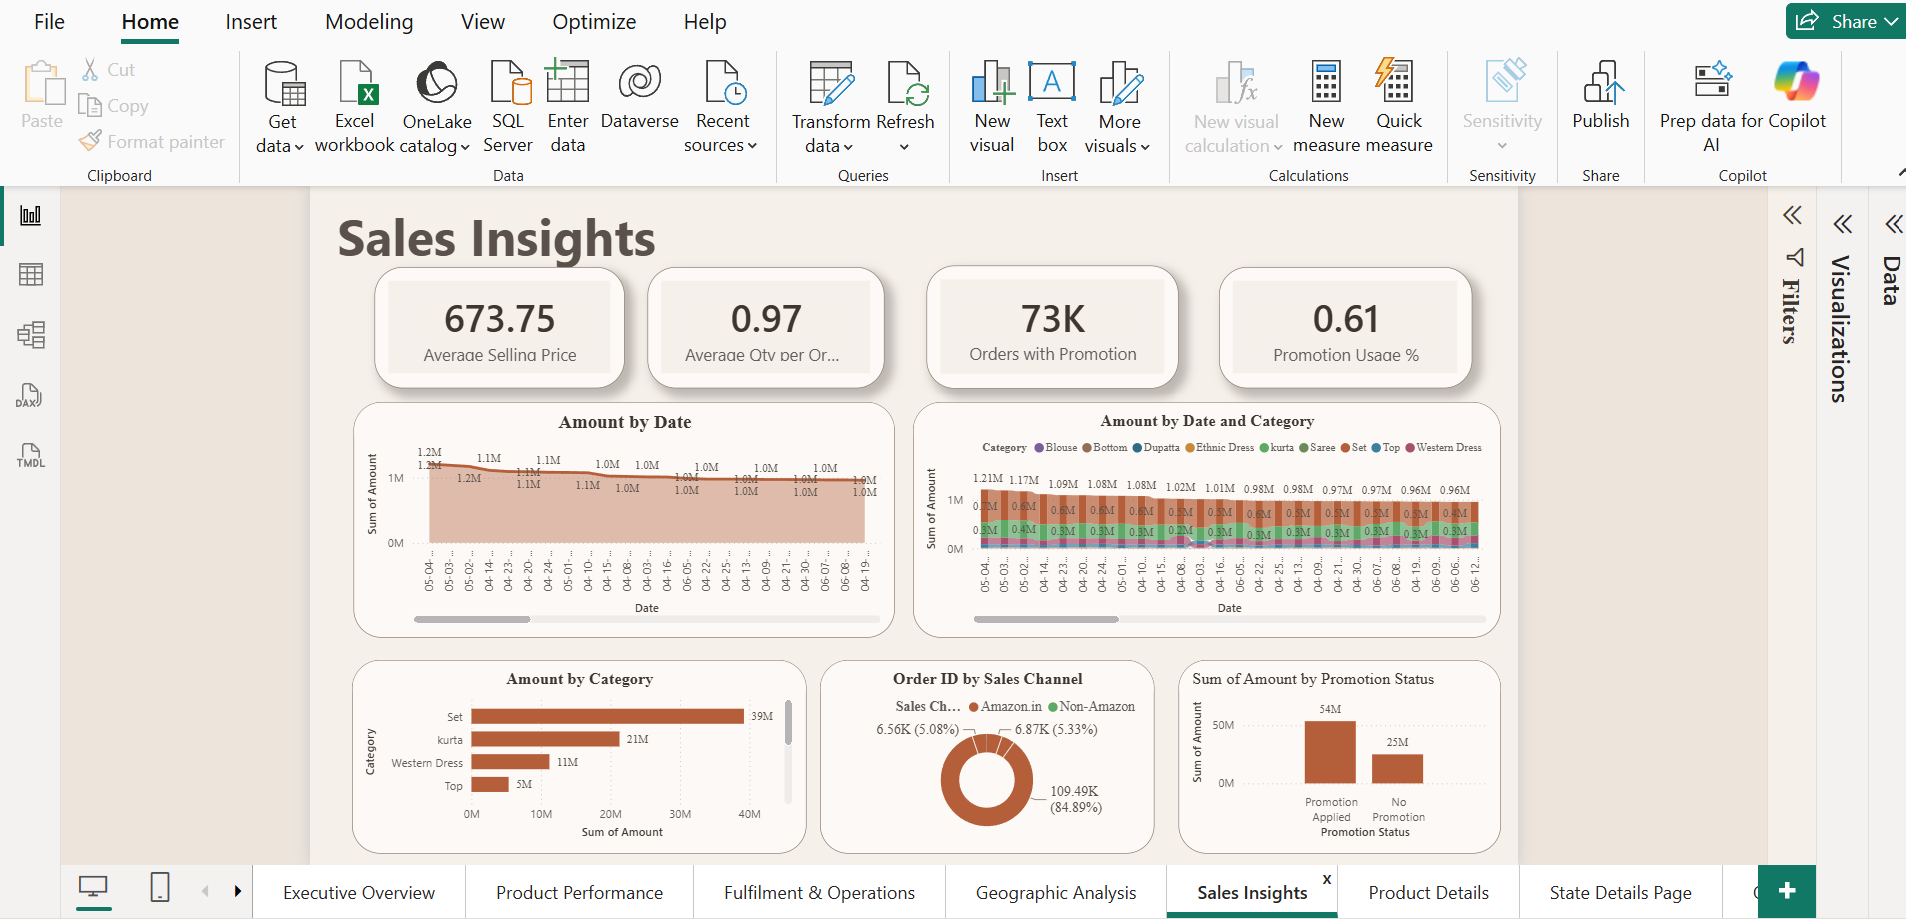

What the dashboard file says about the page in this screenshot:
{"tool":"powerbi","page":{"name":"Sales Insights","canvas":[1280,720],"ordinal":4},"visuals":[{"type":"textbox","box":[23.9,11.1,427.9,89.1],"z":0},{"type":"cardVisual","fields":{"Data":["amazon_sales_cleaned.Average Selling Price"]},"box":[68.4,85.9,265.6,128.8],"z":1000},{"type":"cardVisual","fields":{"Data":["amazon_sales_cleaned.Average Qty per Order"]},"box":[357.9,85.9,251.3,128.8],"z":2000},{"type":"cardVisual","fields":{"Data":["amazon_sales_cleaned.Orders with Promotion"]},"box":[653.7,84.3,267.2,130.4],"z":3000},{"type":"cardVisual","fields":{"Data":["amazon_sales_cleaned.Promotion Usage %"]},"box":[963.9,85.9,268.8,128.8],"z":4000},{"type":"areaChart","title":"Amount by Date","fields":{"Category":["amazon_sales_cleaned.Date"],"Y":["Sum(amazon_sales_cleaned.Amount)"]},"box":[46.1,229,574.2,249.7],"z":5000},{"type":"ribbonChart","title":" Amount by Date and Category","fields":{"Category":["amazon_sales_cleaned.Date"],"Series":["amazon_sales_cleaned.Category"],"Y":["Sum(amazon_sales_cleaned.Amount)"]},"box":[639.4,229,623.5,249.7],"z":6000},{"type":"barChart","title":"Amount by Category","fields":{"Category":["amazon_sales_cleaned.Category"],"Y":["Sum(amazon_sales_cleaned.Amount)"]},"box":[44.5,502.6,482,205.2],"z":7000},{"type":"donutChart","title":" Order ID by Sales Channel","fields":{"Y":["CountNonNull(amazon_sales_cleaned.Order ID)"],"Category":["amazon_sales_cleaned.Sales Channel"],"Series":["amazon_sales_cleaned.Courier Status"]},"box":[540.8,502.6,354.7,205.2],"z":8000},{"type":"clusteredColumnChart","fields":{"Category":["amazon_sales_cleaned.Promotion Status"],"Y":["Sum(amazon_sales_cleaned.Amount)"]},"box":[921,502.6,342,205.2],"z":9000}]}

Visuals, with their boxes on the page's 1280x720 design canvas (x1, y1, x2, y2). These are canvas units, not pixel positions in the 1906x919 screenshot, which may show the page scaled, cropped or inside an application window:
textbox: [x1=24, y1=11, x2=452, y2=100]
cardVisual - amazon_sales_cleaned.Average Selling Price: [x1=68, y1=86, x2=334, y2=215]
cardVisual - amazon_sales_cleaned.Average Qty per Order: [x1=358, y1=86, x2=609, y2=215]
cardVisual - amazon_sales_cleaned.Orders with Promotion: [x1=654, y1=84, x2=921, y2=215]
cardVisual - amazon_sales_cleaned.Promotion Usage %: [x1=964, y1=86, x2=1233, y2=215]
"Amount by Date" areaChart: [x1=46, y1=229, x2=620, y2=479]
" Amount by Date and Category" ribbonChart: [x1=639, y1=229, x2=1263, y2=479]
"Amount by Category" barChart: [x1=44, y1=503, x2=526, y2=708]
" Order ID by Sales Channel" donutChart: [x1=541, y1=503, x2=896, y2=708]
clusteredColumnChart - amazon_sales_cleaned.Promotion Status x Sum(amazon_sales_cleaned.Amount): [x1=921, y1=503, x2=1263, y2=708]
